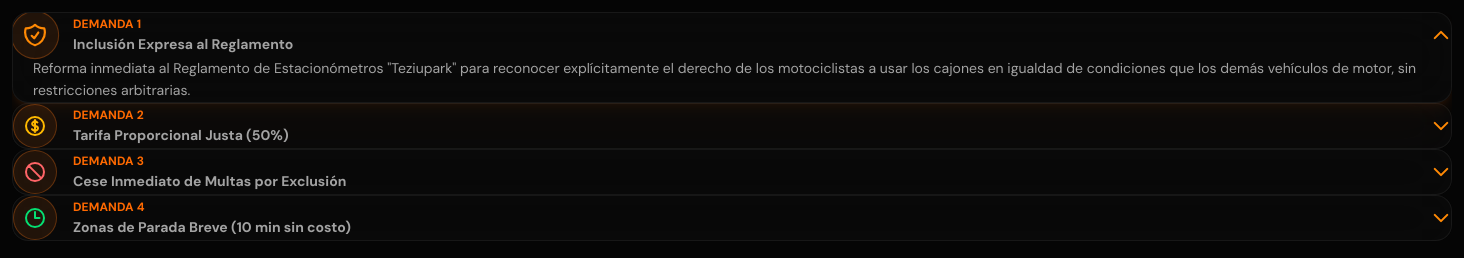
Test: AccordionDemands › only allows one item open at a time
The image size is (1464, 258).
Note: Close the first item (starts open)
Click the button "Demanda 1 Inclusión Expresa al Reglamento".
click(105, 24)  # box 13,13 -> 1451,57
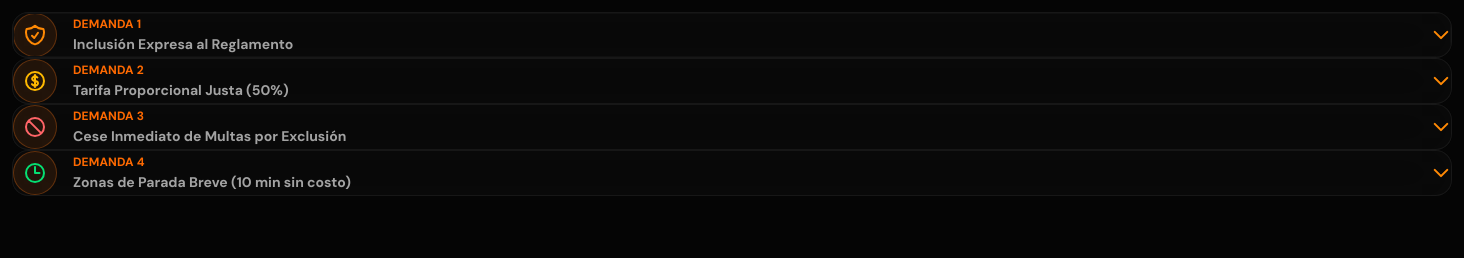
Expected: the button "Demanda 1 Inclusión Expresa al Reglamento" is collapsed, 13,13 -> 1451,57
Note: Open second item
Click the button "Demanda 2 Tarifa Proporcional Justa (50%)".
click(35, 81)  # box 13,59 -> 1451,103
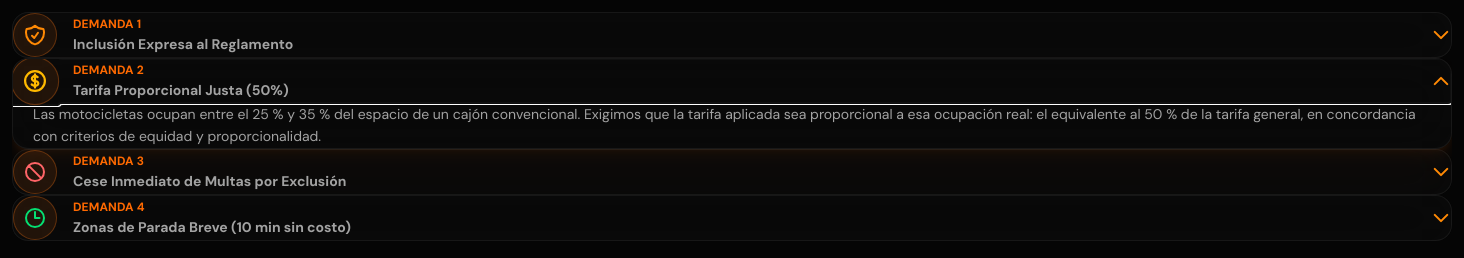
Expected: the button "Demanda 1 Inclusión Expresa al Reglamento" is collapsed, 13,13 -> 1451,57
Expected: the button "Demanda 2 Tarifa Proporcional Justa (50%)" is expanded, 13,59 -> 1451,103
Click the button "Demanda 3 Cese Inmediato de Multas por Exclusión".
click(35, 172)  # box 13,150 -> 1451,194
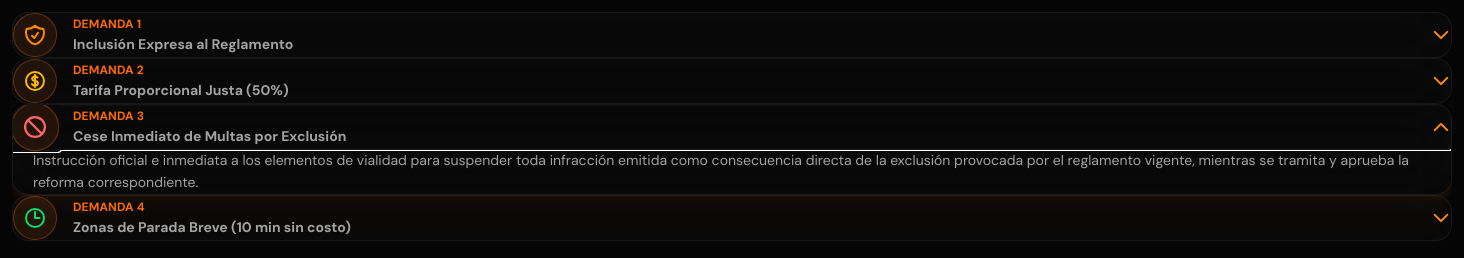
Expected: the button "Demanda 3 Cese Inmediato de Multas por Exclusión" is expanded, 13,105 -> 1451,149
Expected: the button "Demanda 2 Tarifa Proporcional Justa (50%)" is collapsed, 13,59 -> 1451,103
